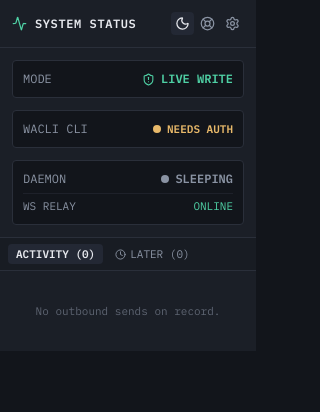
Test: StatusStrip sleep mode › wakes the app from the same moon
Step 1. Click the button named "sleep mode" → click(182, 24), box [171,12,194,35]
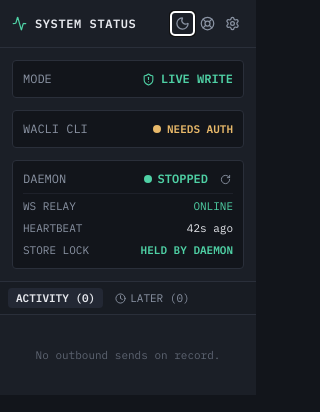
Check: the button titled "Restart Daemon" is shown, box [218,172,233,186]
